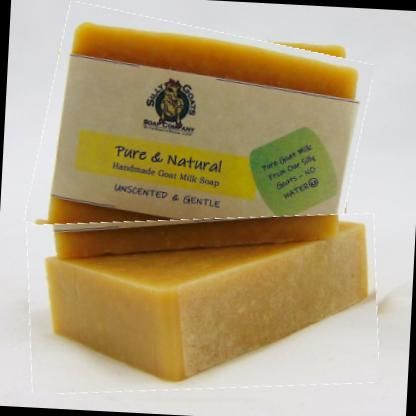soap: (30, 11, 368, 276), (21, 202, 384, 404)
